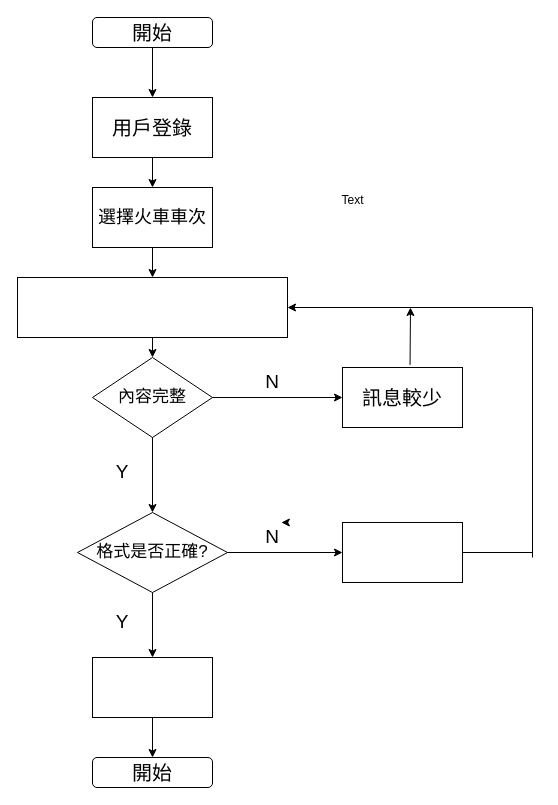
Image size: 558x805. Some labels were removed from this diagram. Each missing label, with the box of its shape:
填寫訂票訊息: (16, 276, 288, 338)
提交成功: (92, 656, 212, 718)
格式錯誤: (342, 522, 462, 582)
